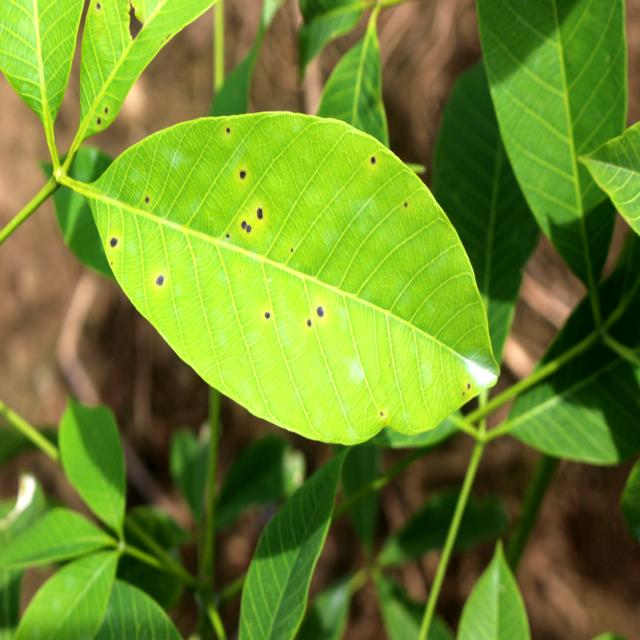Colletotrichum: (317, 306, 324, 318), (156, 275, 163, 286), (257, 208, 263, 220), (110, 238, 118, 247), (240, 171, 246, 179), (370, 157, 376, 164), (265, 312, 270, 320), (242, 221, 246, 229), (247, 225, 251, 232), (226, 127, 230, 134), (308, 320, 310, 326)
